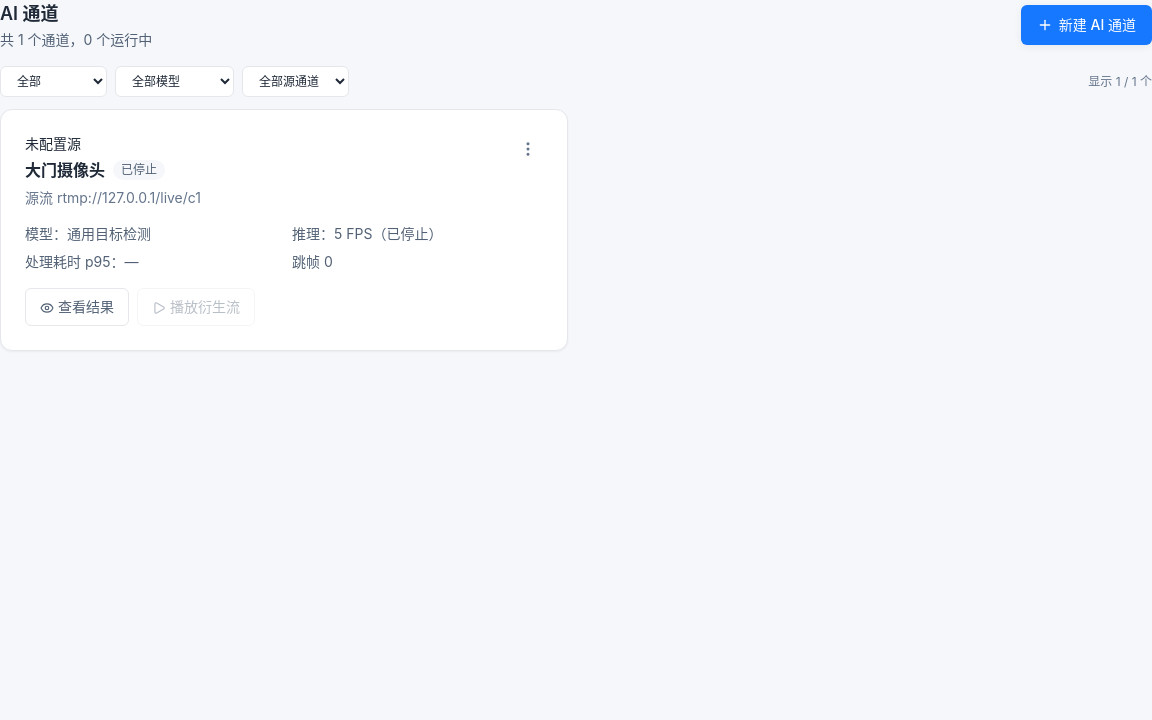
Test: AiChannelsPage › 确认删除后通道从列表中消失（store 是真实响应式的，不需要手动刷新页面）
The image size is (1152, 720).
Click the button named "更多操作" at (528, 149), box [513,134,543,164]
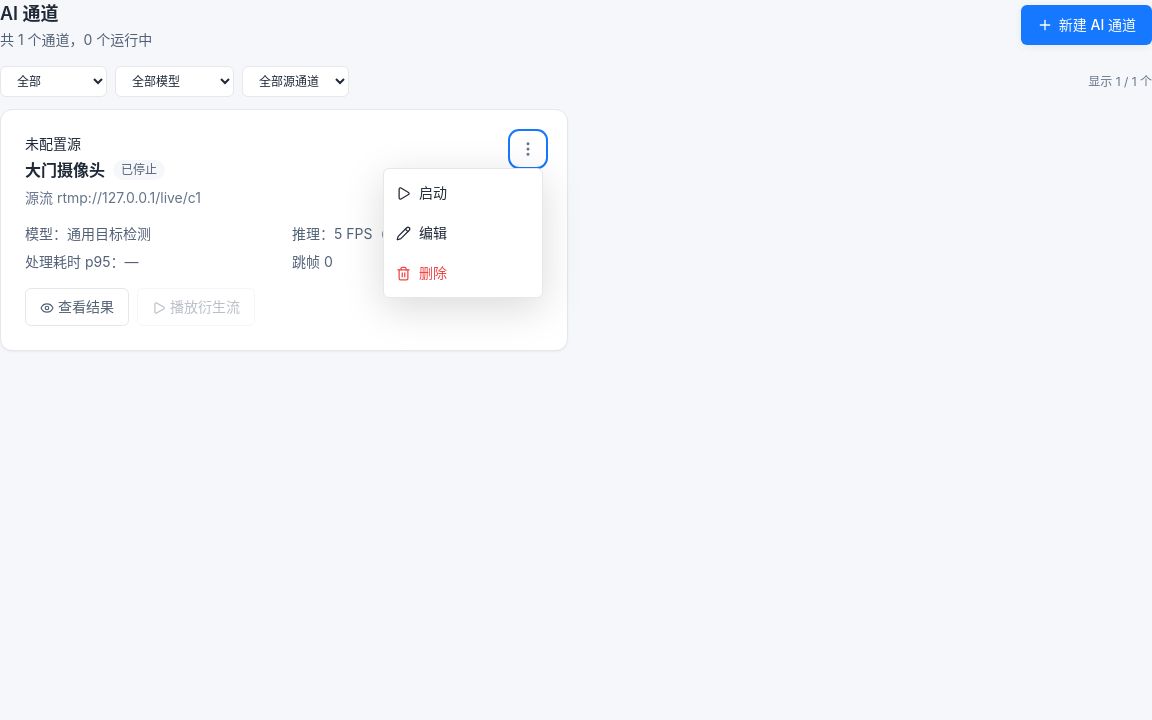
Click the button "删除" at (463, 273), box [384,253,542,293]
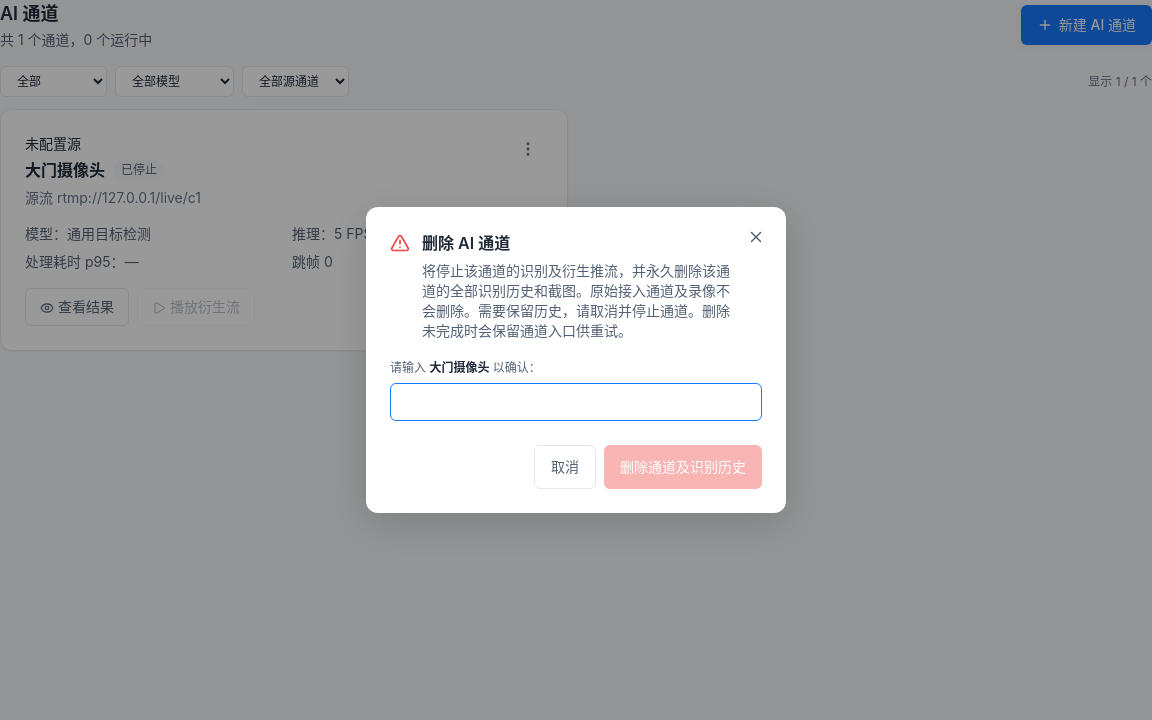
Type "大门摄像头" into the field with test id "confirm-input" at (576, 402), box [390,383,762,421]
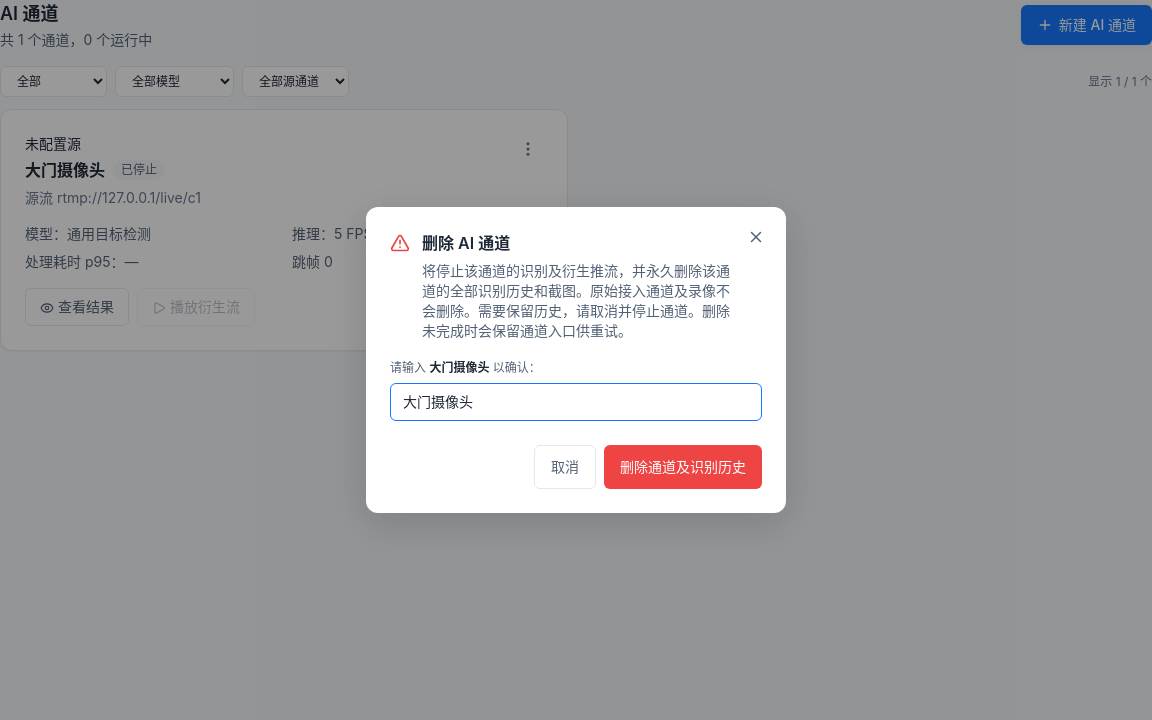
Click the button with test id "confirm-ok" at (683, 467), box [604,445,762,489]
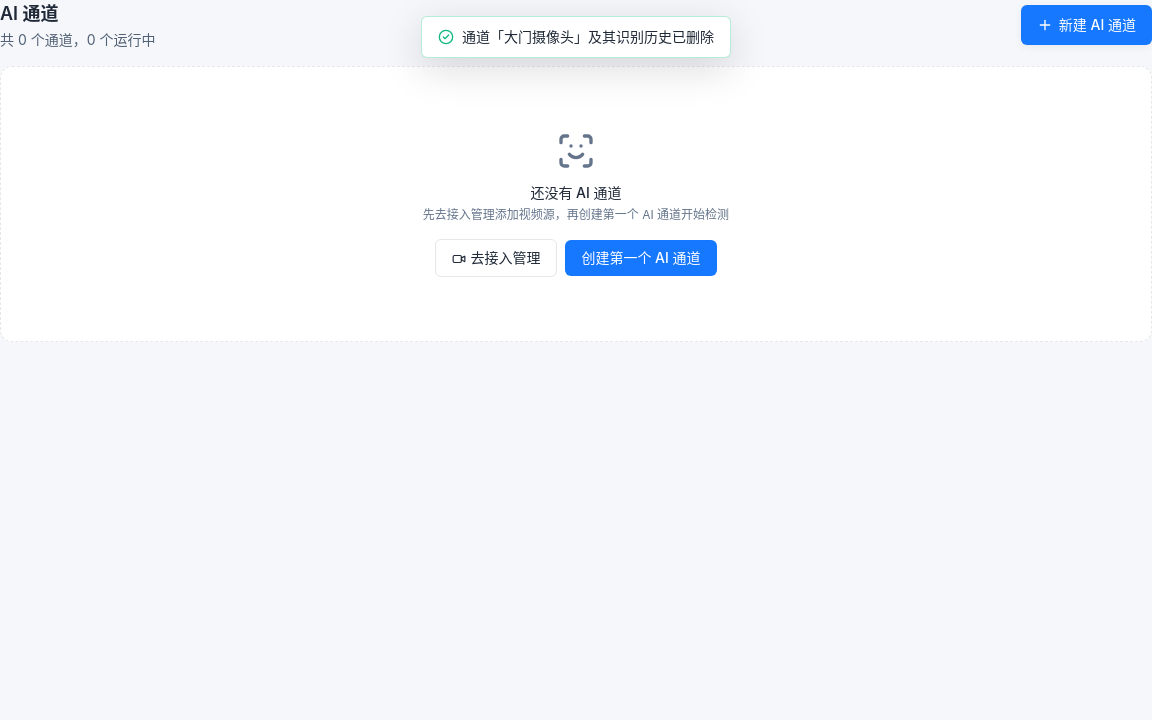
expect the text "还没有 AI 通道" is shown: met, box [530,183,622,203]
